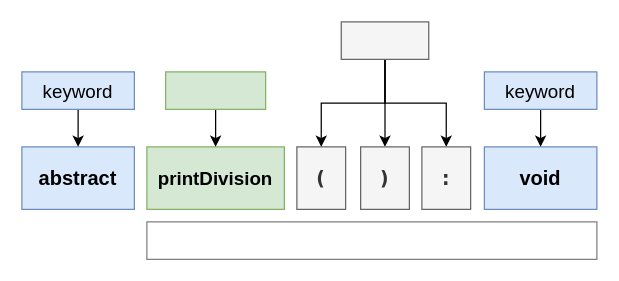
Image size: 619x281. Some labels were removed from this diagram. The centre of each missing label's shape, as x and y in pixels:
"identifier" goes at (x=215, y=90).
"Method" goes at (x=371, y=240).
"Token" goes at (x=384, y=40).
